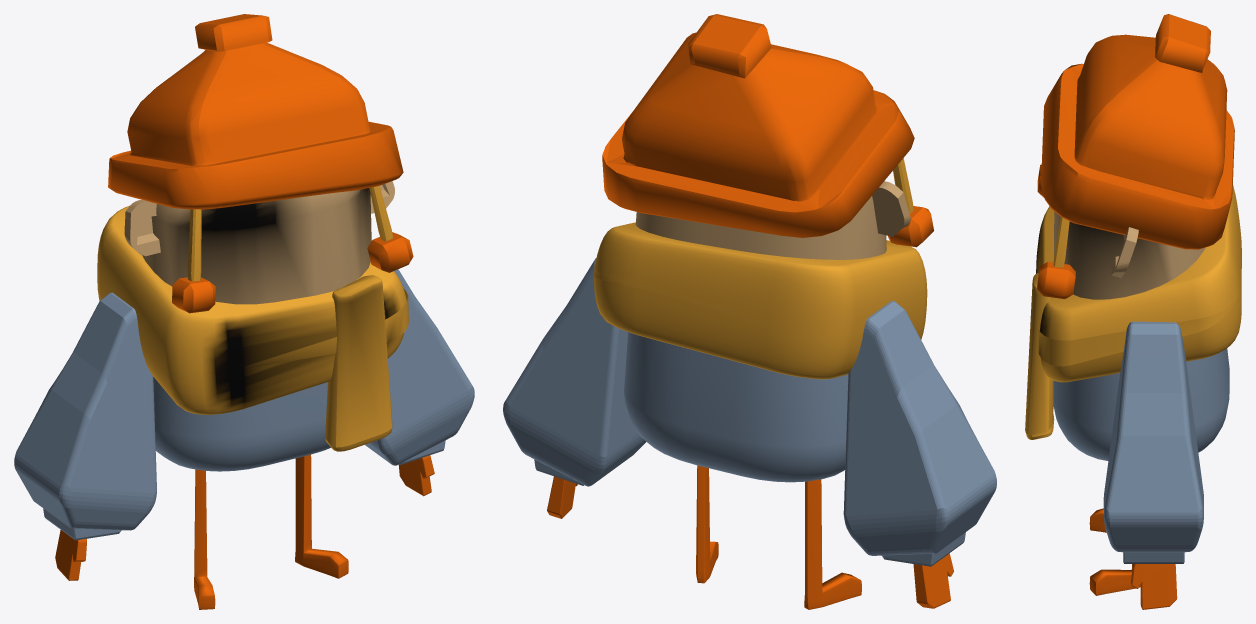
The model's file is kid.fbx.
The picture shows the model from 3 angles, left to right: view 1: azimuth 30°, elevation 25°; view 2: azimuth 150°, elevation 25°; view 3: azimuth 270°, elevation 25°; orthographic projection. The views are drawn at different scales.
Parts seen in each view (by area): view 1: Hat, Scarf, Arms, Head, Body, Legs, Arms.001, Ears, Hat.002; view 2: Hat, Arms, Scarf, Body, Head, Legs, Arms.001, Ears; view 3: Hat, Arms, Scarf, Body, Head, Arms.001, Legs, Ears, Hat.002.
Boxes of the visible parts, x1,y1,x2,y2 form: Hat: (108, 14, 413, 313); Scarf: (97, 205, 408, 451); Arms: (14, 269, 474, 540); Head: (142, 188, 371, 304); Body: (153, 377, 330, 471); Legs: (194, 454, 348, 609); Arms.001: (55, 455, 434, 580); Ears: (124, 181, 394, 256); Hat.002: (187, 185, 392, 281); Hat: (602, 14, 933, 247); Arms: (503, 258, 996, 566); Scarf: (593, 222, 927, 379); Body: (624, 332, 848, 482); Head: (635, 196, 886, 259); Legs: (696, 465, 861, 609); Arms.001: (547, 476, 953, 608); Ears: (872, 181, 910, 236); Hat: (1037, 14, 1234, 298); Arms: (1103, 321, 1203, 563); Scarf: (1025, 185, 1241, 439); Body: (1053, 348, 1229, 460); Head: (1054, 211, 1205, 299); Arms.001: (1130, 564, 1177, 609); Legs: (1089, 508, 1140, 595); Ears: (1111, 227, 1138, 277); Hat.002: (1053, 217, 1069, 267).
Bounding box in the file's own units: 477 × 597 × 218.
